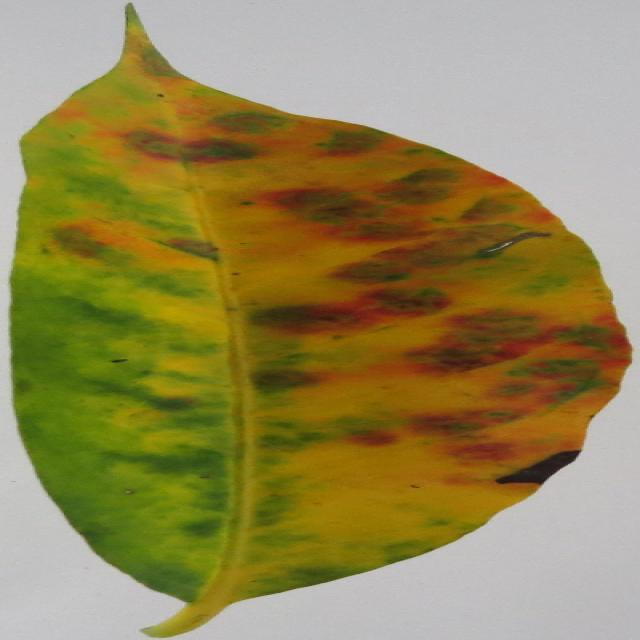DeficienciaNutricional-Fosforo: (13, 9, 627, 636)
